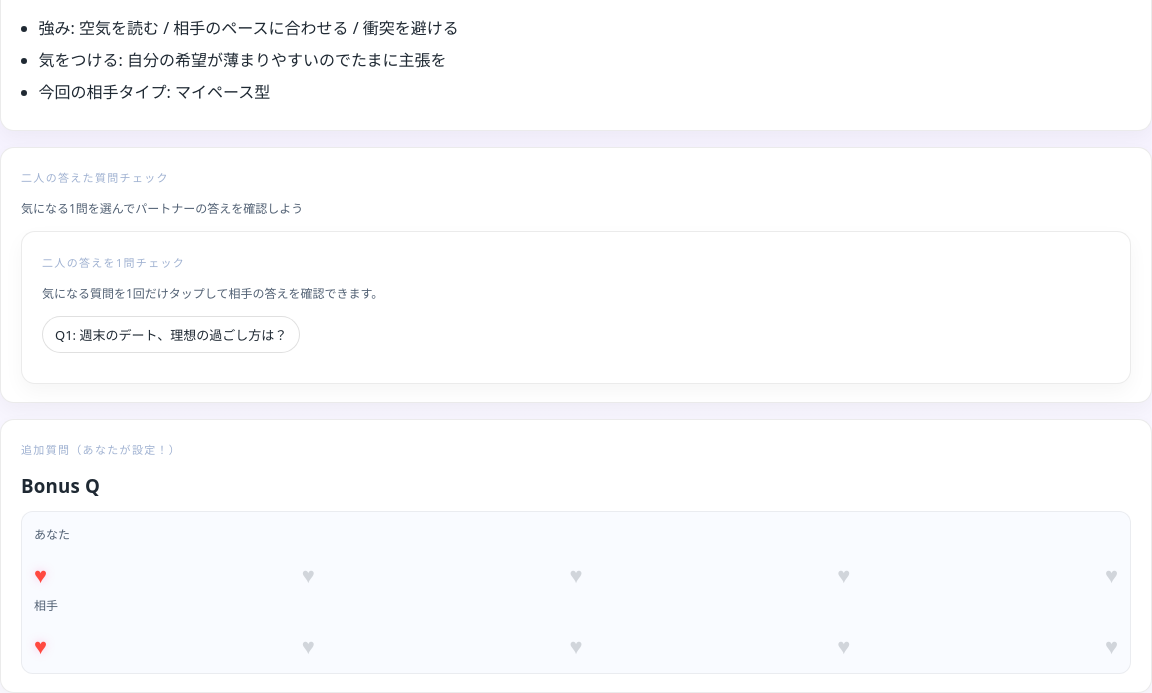
Test: ResultPage › shows personal and pair result cards when payload is valid
(page scrolled)
Expected: the text "二人の答えた質問チェック" is shown, top-left (21, 170), bottom-right (169, 185)
Click the button "Q1: 週末のデート、理想の過ごし方は？" at (171, 334), box top-left (42, 316), bottom-right (300, 353)
(page scrolled)
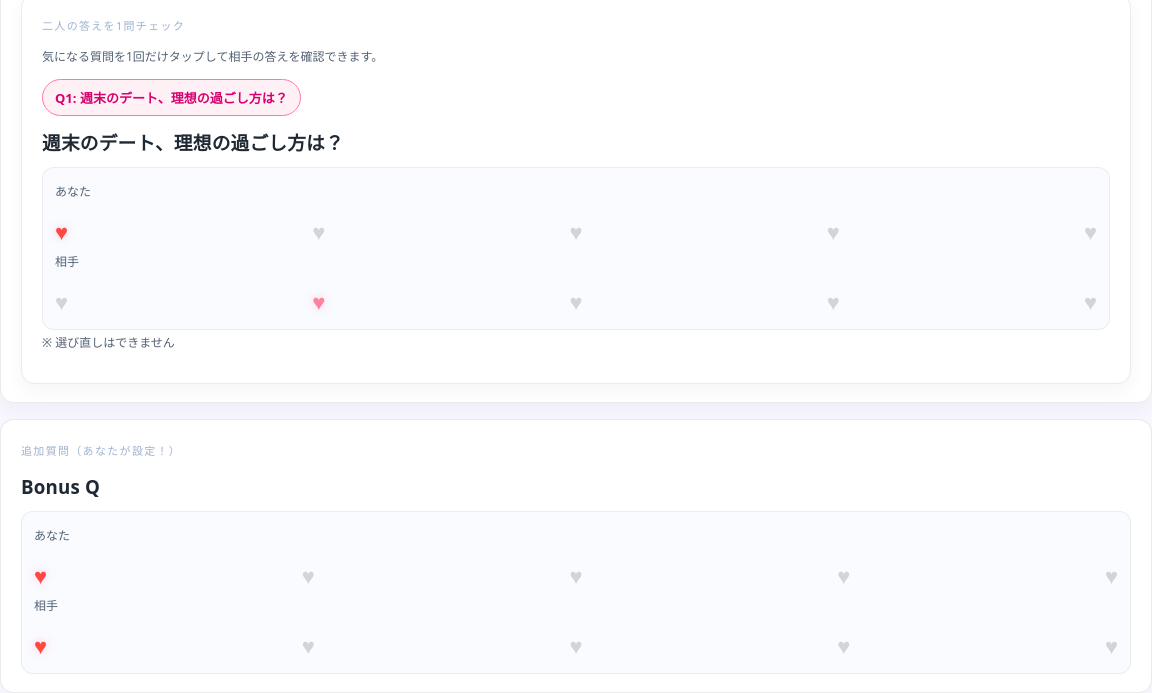
Expected: the text "追加質問（あなたが設定！）" is shown, top-left (21, 442), bottom-right (181, 458)
Expected: the heading "週末のデート、理想の過ごし方は？" is shown, top-left (42, 130), bottom-right (344, 155)
